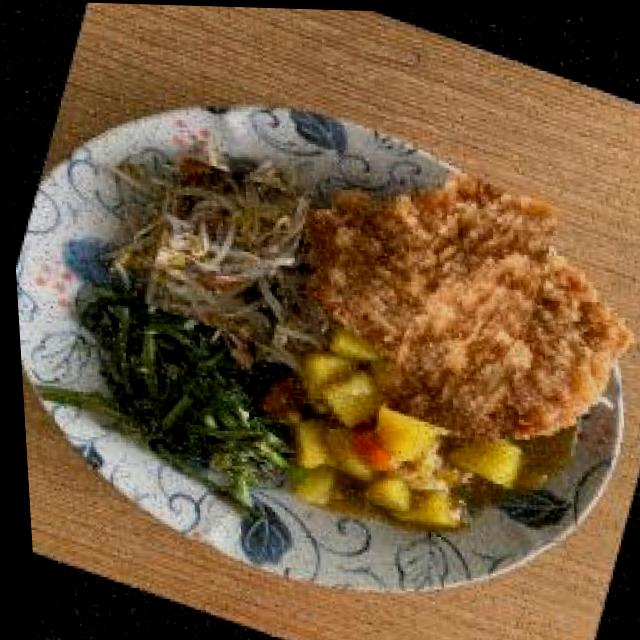curry: (305, 362, 494, 514)
fried_chicken: (348, 188, 592, 426)
mung_bean_sprouts: (130, 158, 322, 345)
water_spinach: (83, 324, 260, 476)
